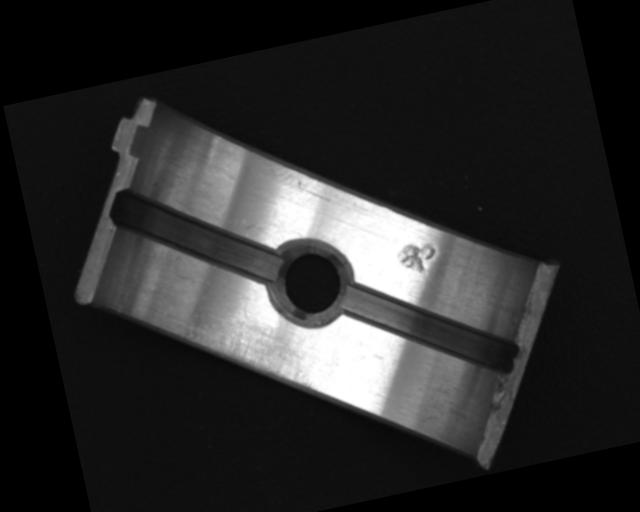bruise: (393, 237, 441, 281)
gap: (339, 252, 521, 405), (105, 164, 286, 313)
hole: (261, 230, 363, 333)
scratch: (170, 291, 319, 419)
